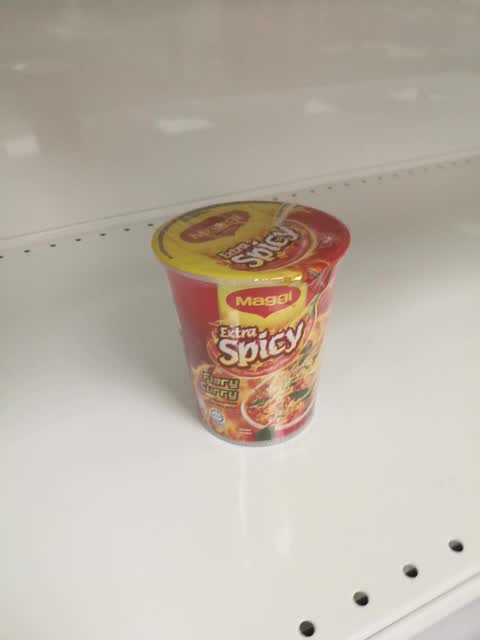maggi: (150, 199, 354, 450)
